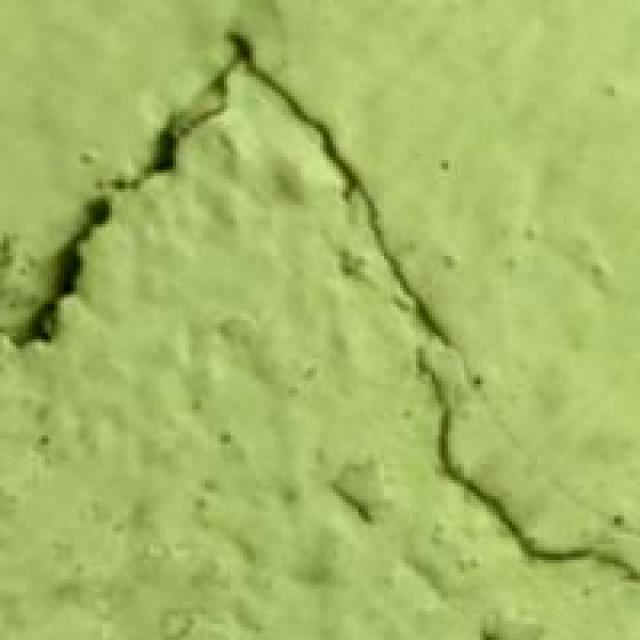crack: (34, 36, 640, 594)
